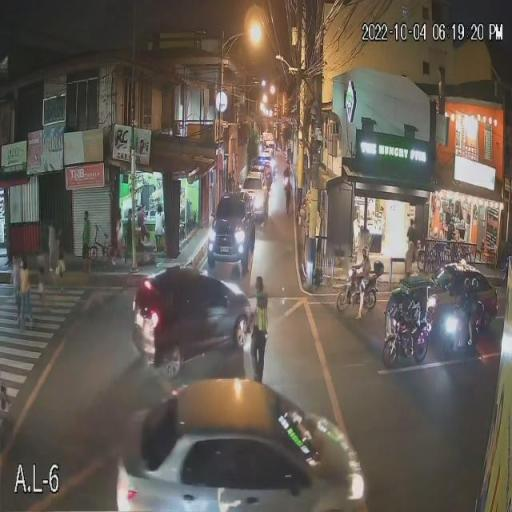helmet: (362, 246, 370, 256), (472, 278, 480, 288), (464, 278, 471, 288)
motorcycle: (382, 312, 431, 370), (431, 308, 478, 364), (335, 269, 383, 311)
rider: (388, 290, 423, 342), (350, 249, 372, 318), (456, 286, 470, 346), (467, 289, 479, 346)
